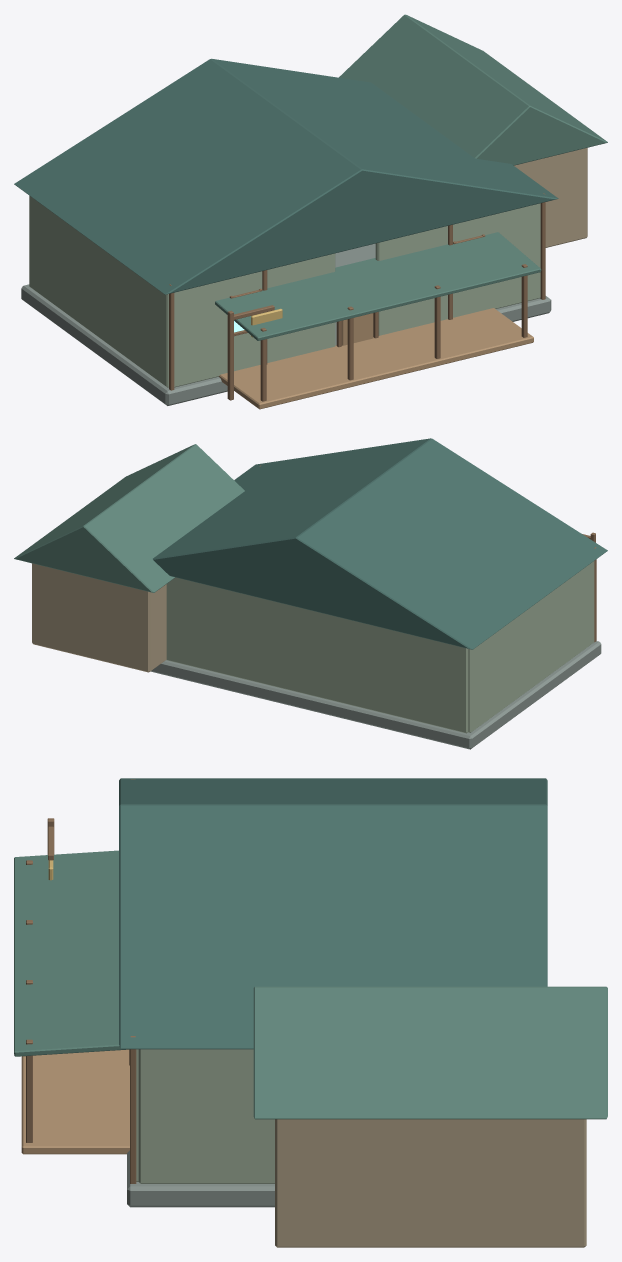
The model's file is LumenWayfarerInn.glb.
3 renders of one model, top to bottom at view 1: azimuth 30°, elevation 25°; view 2: azimuth 150°, elevation 25°; view 3: azimuth 270°, elevation 25°, orthographic. The views are drawn at different scales.
Visible parts, largest first — view 1: LumenWayfarerInn; view 2: LumenWayfarerInn; view 3: LumenWayfarerInn.
Boxes of the visible parts, x1,y1,x2,y2 form: LumenWayfarerInn: [14, 14, 607, 409]; LumenWayfarerInn: [14, 438, 607, 749]; LumenWayfarerInn: [14, 778, 607, 1247].
Size of the model in its own units: 40.96 by 15.37 by 30.5.
